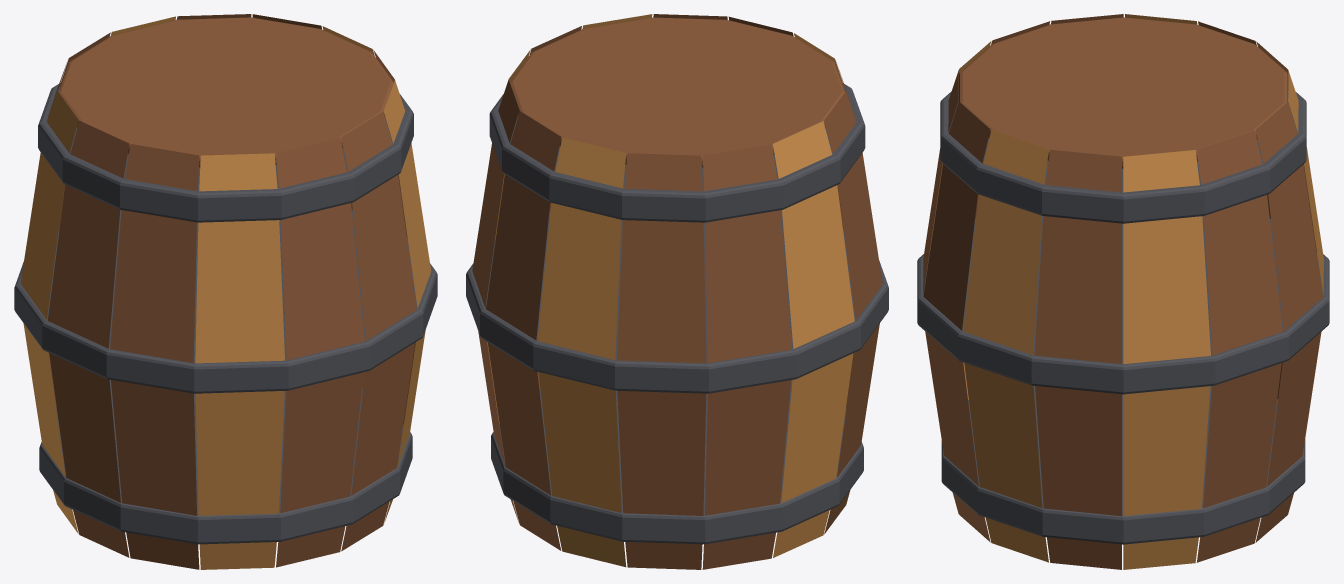
The model's file is ashwick-barrel.meshopt.glb.
The picture shows the model from 3 angles, left to right: view 1: azimuth 30°, elevation 25°; view 2: azimuth 150°, elevation 25°; view 3: azimuth 270°, elevation 25°; orthographic projection.
Parts seen in each view (by area): view 1: Oak staves.003, Forged hoops.001, Oak staves.002, Barrel lid.001; view 2: Oak staves.003, Oak staves.002, Forged hoops.001, Barrel lid.001; view 3: Oak staves.003, Oak staves.002, Forged hoops.001, Barrel lid.001.
Boxes of the visible parts, x1,y1,x2,y2 form: Oak staves.003: [20, 14, 416, 569]; Forged hoops.001: [14, 83, 437, 544]; Oak staves.002: [20, 16, 431, 569]; Barrel lid.001: [58, 17, 393, 167]; Oak staves.003: [472, 14, 882, 569]; Oak staves.002: [487, 14, 854, 567]; Forged hoops.001: [466, 83, 888, 544]; Barrel lid.001: [509, 17, 844, 167]; Oak staves.003: [923, 14, 1322, 569]; Oak staves.002: [929, 14, 1323, 569]; Forged hoops.001: [917, 91, 1329, 544]; Barrel lid.001: [959, 17, 1287, 168].
Size of the model in its own units: 1 by 1.08 by 0.9769.
